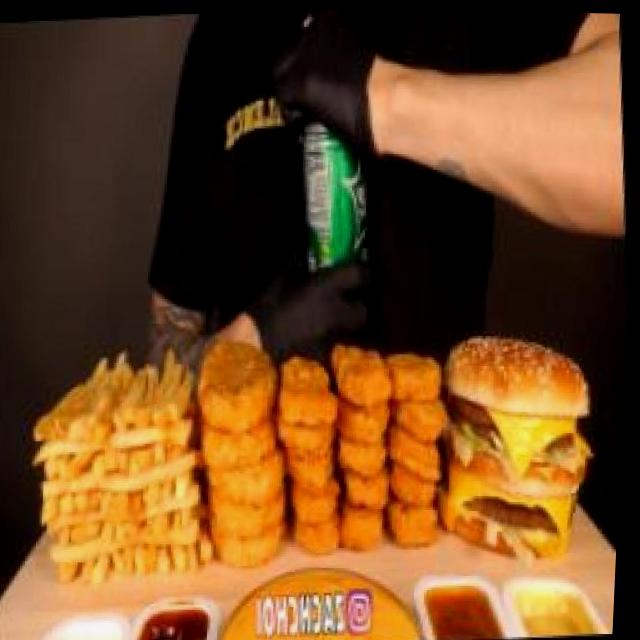Hashbrown: (190, 317, 307, 574)
burger: (434, 276, 607, 569)
french fries: (14, 333, 231, 594)
nugget: (272, 310, 459, 568)
